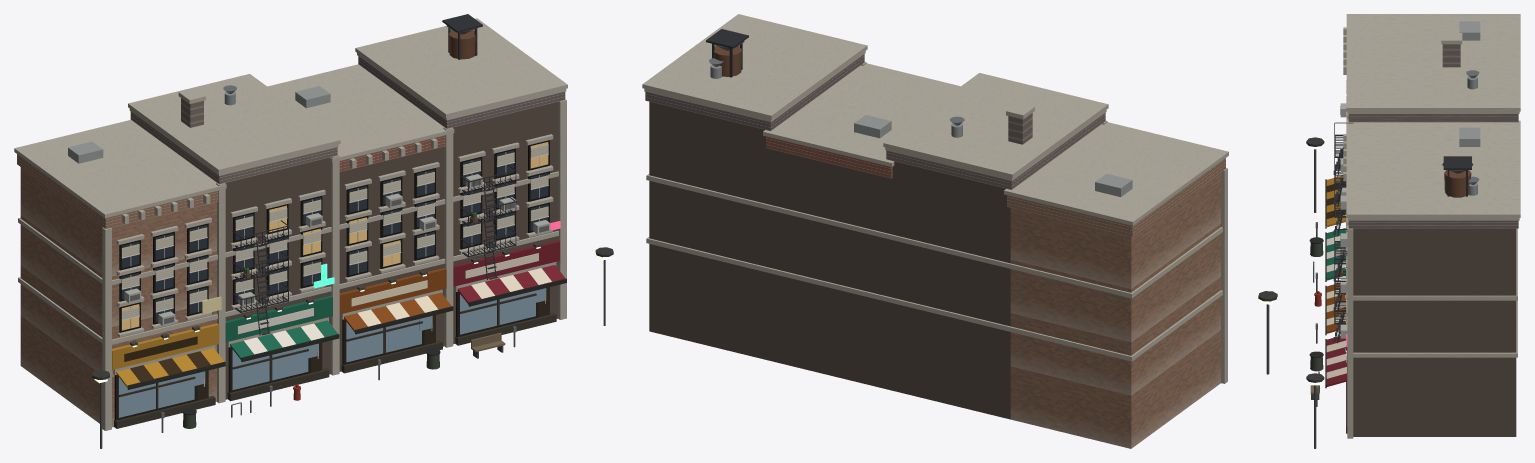
File: jersey_shops2.glb
The picture shows the model from 3 angles, left to right: view 1: azimuth 30°, elevation 25°; view 2: azimuth 150°, elevation 25°; view 3: azimuth 270°, elevation 25°; orthographic projection. The views are drawn at different scales.
Bounding box in the file's own units: 38.4 × 18.72 × 14.3.
81 materials, 9 textured.
